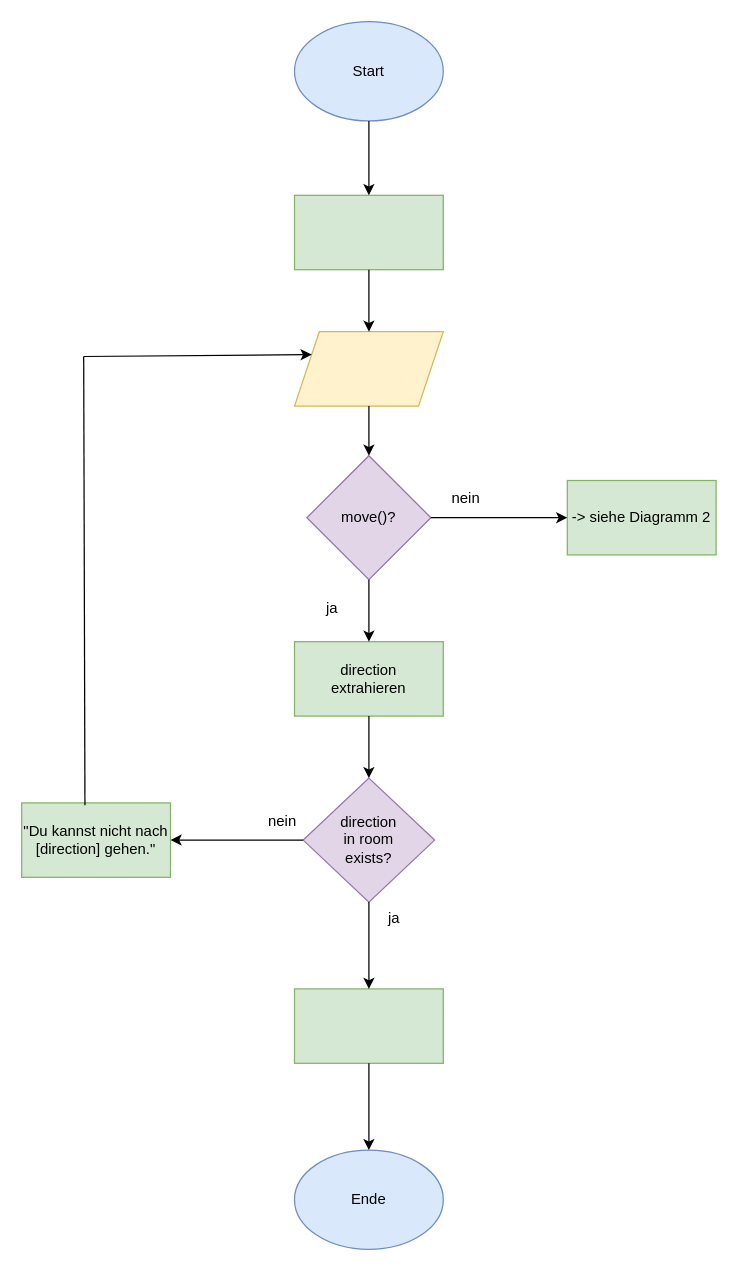
This 738x1271 diagram has some shape labels left out. Here are the shapes that lost their labels. From the top down, the centre of each, then its label:
point 368,232: current_room = "alter_baum" inventar = []
point 368,368: User gibt Befehl ein
point 368,1025: world.current_room return look()
